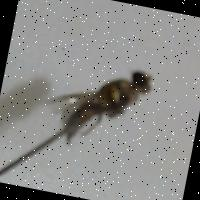Oriental-fruit-fly: (26, 46, 160, 172)
